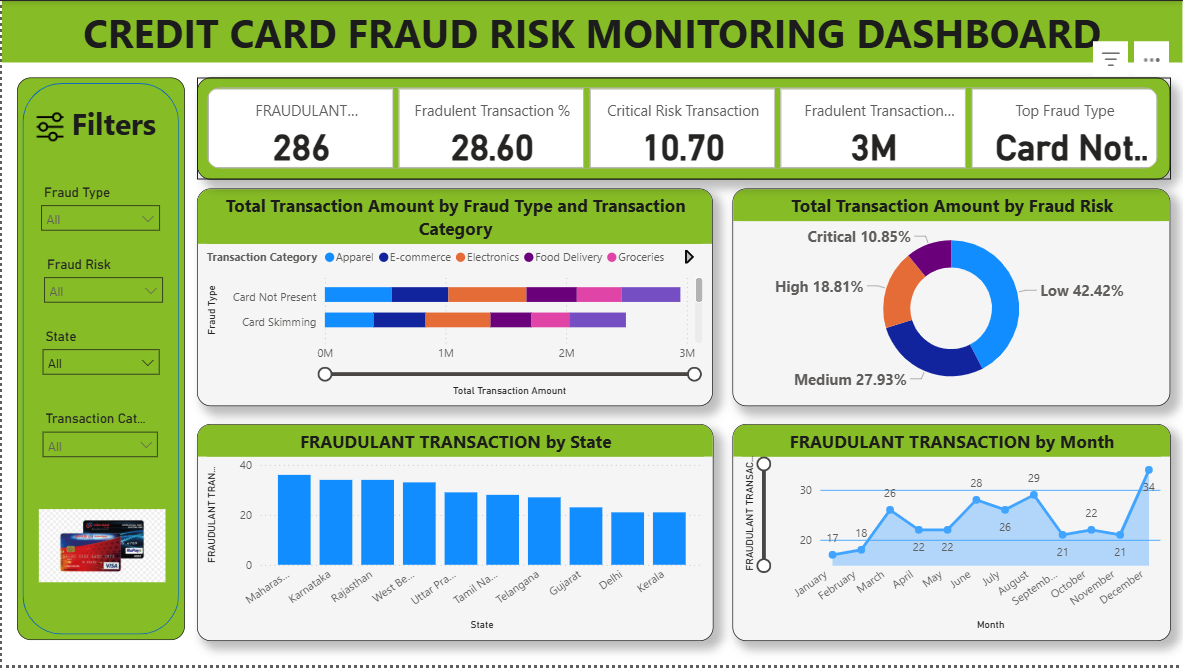

Layout of this report page (visuals, bound fields, positions):
{"tool":"powerbi","page":{"name":"Page 1","canvas":[1280,720],"ordinal":0},"visuals":[{"type":"textbox","box":[0,0,1280.1,66.7],"z":0},{"type":"shape","box":[16.7,83.3,181.7,610],"z":1000},{"type":"textbox","box":[69.9,105.7,110.6,63.4],"z":2000},{"type":"barChart","fields":{"Y":["Credit Card Fraud Risk Analysis.Total Transaction Amount"],"Category":["Credit Card Fraud Risk Analysis.Fraud Type"],"Series":["Credit Card Fraud Risk Analysis.Transaction Category"]},"box":[211.5,203.3,559.5,235.8],"z":3000},{"type":"donutChart","fields":{"Category":["Credit Card Fraud Risk Analysis.Fraud Risk"],"Y":["Credit Card Fraud Risk Analysis.Total Transaction Amount"]},"box":[792.1,203.3,475,235.8],"z":4000},{"type":"columnChart","fields":{"Category":["Credit Card Fraud Risk Analysis.State"],"Y":["Credit Card Fraud Risk Analysis.FRAUDULANT TRANSACTION"]},"box":[211.7,458.3,560,235],"z":5000},{"type":"lineChart","fields":{"Category":["Credit Card Fraud Risk Analysis.Transaction Date.Variation.Date Hierarchy.Month"],"Y":["Credit Card Fraud Risk Analysis.FRAUDULANT TRANSACTION"]},"box":[791.7,458.3,475,235],"z":6000},{"type":"slicer","title":"Fraud Type","fields":{"Values":["Credit Card Fraud Risk Analysis.Fraud Type"]},"box":[33.3,193.3,148.3,75],"z":7000},{"type":"slicer","fields":{"Values":["Credit Card Fraud Risk Analysis.Fraud Risk"]},"box":[35,271.7,148.3,78.3],"z":8000},{"type":"slicer","fields":{"Values":["Credit Card Fraud Risk Analysis.State"]},"box":[34.2,349.7,146.4,117.1],"z":10000},{"type":"image","box":[23.3,115,58.3,41.7],"z":11000},{"type":"slicer","fields":{"Values":["Credit Card Fraud Risk Analysis.Transaction Category"]},"box":[34.2,439.2,144.8,76.4],"z":12000},{"type":"cardVisual","fields":{"Data":["Credit Card Fraud Risk Analysis.FRAUDULANT TRANSACTION","Credit Card Fraud Risk Analysis.Fradulent Transaction %","Credit Card Fraud Risk Analysis.Critical Risk Transaction","Credit Card Fraud Risk Analysis.Fradulent Transaction Amount","Credit Card Fraud Risk Analysis.Top Fraud Type"]},"box":[211.5,83,1055.6,110.6],"z":13000},{"type":"image","box":[29.3,515.6,159.4,151.3],"z":13001}]}

Visuals, with their boxes in screenshot pixels (x1, y1, x2, y2), scaled from the page's 1280x720 canvas onto the 1183x670 screenshot:
textbox: x1=0, y1=0, x2=1182, y2=62
shape: x1=15, y1=78, x2=183, y2=645
textbox: x1=65, y1=98, x2=167, y2=157
barChart - Credit Card Fraud Risk Analysis.Total Transaction Amount x Credit Card Fraud Risk Analysis.Fraud Type: x1=195, y1=189, x2=713, y2=409
donutChart - Credit Card Fraud Risk Analysis.Fraud Risk x Credit Card Fraud Risk Analysis.Total Transaction Amount: x1=732, y1=189, x2=1171, y2=409
columnChart - Credit Card Fraud Risk Analysis.State x Credit Card Fraud Risk Analysis.FRAUDULANT TRANSACTION: x1=196, y1=426, x2=713, y2=645
lineChart - Credit Card Fraud Risk Analysis.Transaction Date.Variation.Date Hierarchy.Month x Credit Card Fraud Risk Analysis.FRAUDULANT TRANSACTION: x1=732, y1=426, x2=1171, y2=645
"Fraud Type" slicer: x1=31, y1=180, x2=168, y2=250
slicer - Credit Card Fraud Risk Analysis.Fraud Risk: x1=32, y1=253, x2=169, y2=326
slicer - Credit Card Fraud Risk Analysis.State: x1=32, y1=325, x2=167, y2=434
image: x1=22, y1=107, x2=75, y2=146
slicer - Credit Card Fraud Risk Analysis.Transaction Category: x1=32, y1=409, x2=165, y2=480
cardVisual - Credit Card Fraud Risk Analysis.FRAUDULANT TRANSACTION x Credit Card Fraud Risk Analysis.Fradulent Transaction %: x1=195, y1=77, x2=1171, y2=180
image: x1=27, y1=480, x2=174, y2=621
